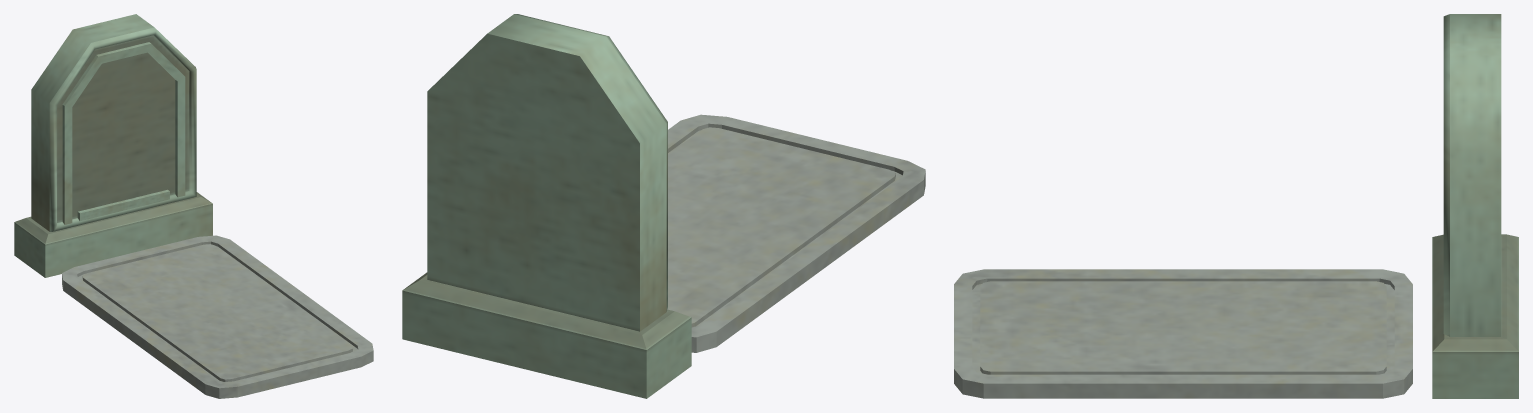
Rendered from gg_GraveStone_03.FBX.
3 renders of one model, left to right at view 1: azimuth 30°, elevation 25°; view 2: azimuth 150°, elevation 25°; view 3: azimuth 270°, elevation 25°, orthographic. The views are drawn at different scales.
Visible parts, largest first — view 1: gg_GraveStone_03, Grave; view 2: gg_GraveStone_03, Grave; view 3: Grave, gg_GraveStone_03.
Part boxes in pixels (x1,y1,x2,y2): gg_GraveStone_03: [14, 14, 212, 277]; Grave: [62, 235, 373, 398]; gg_GraveStone_03: [402, 14, 691, 398]; Grave: [667, 114, 925, 352]; Grave: [954, 269, 1412, 398]; gg_GraveStone_03: [1432, 14, 1518, 398].
Bounding box in the file's own units: 53.47 × 66.36 × 111.
Materials: 2 (2 with a texture image).
